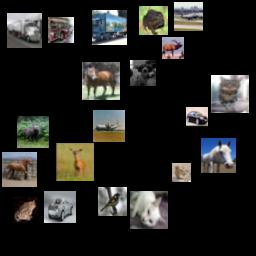airplane: (93, 110, 125, 142), (174, 2, 203, 31)
automobile: (44, 191, 76, 223), (186, 107, 208, 129)
bird: (98, 187, 127, 216), (172, 163, 191, 182)
cat: (130, 191, 168, 229), (211, 75, 249, 113)
deer: (56, 143, 94, 181), (17, 116, 49, 148), (162, 37, 184, 59)
dog: (130, 60, 156, 86)
frog: (139, 6, 168, 35), (12, 197, 38, 223)
truck: (7, 13, 42, 48), (92, 10, 127, 45), (48, 17, 74, 43)
